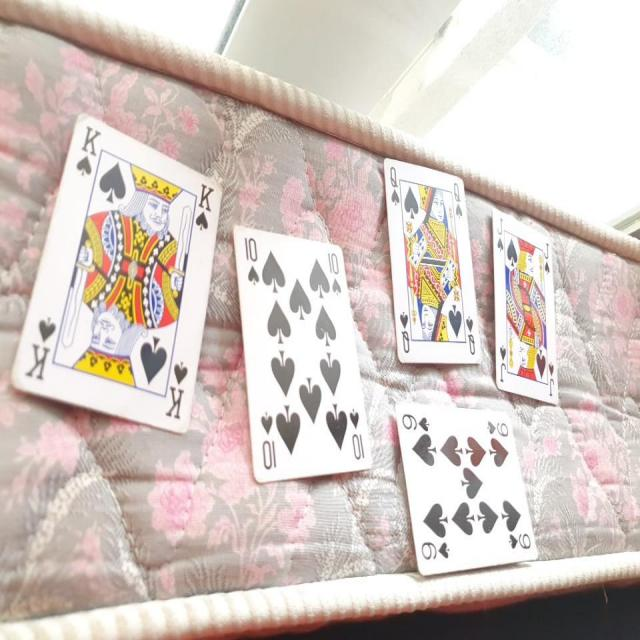10 Spades: (227, 214, 374, 484)
9 Spades: (384, 388, 544, 572)
J Spades: (486, 199, 567, 416)
K Spades: (11, 105, 226, 444)
Q Spades: (376, 149, 481, 368)
